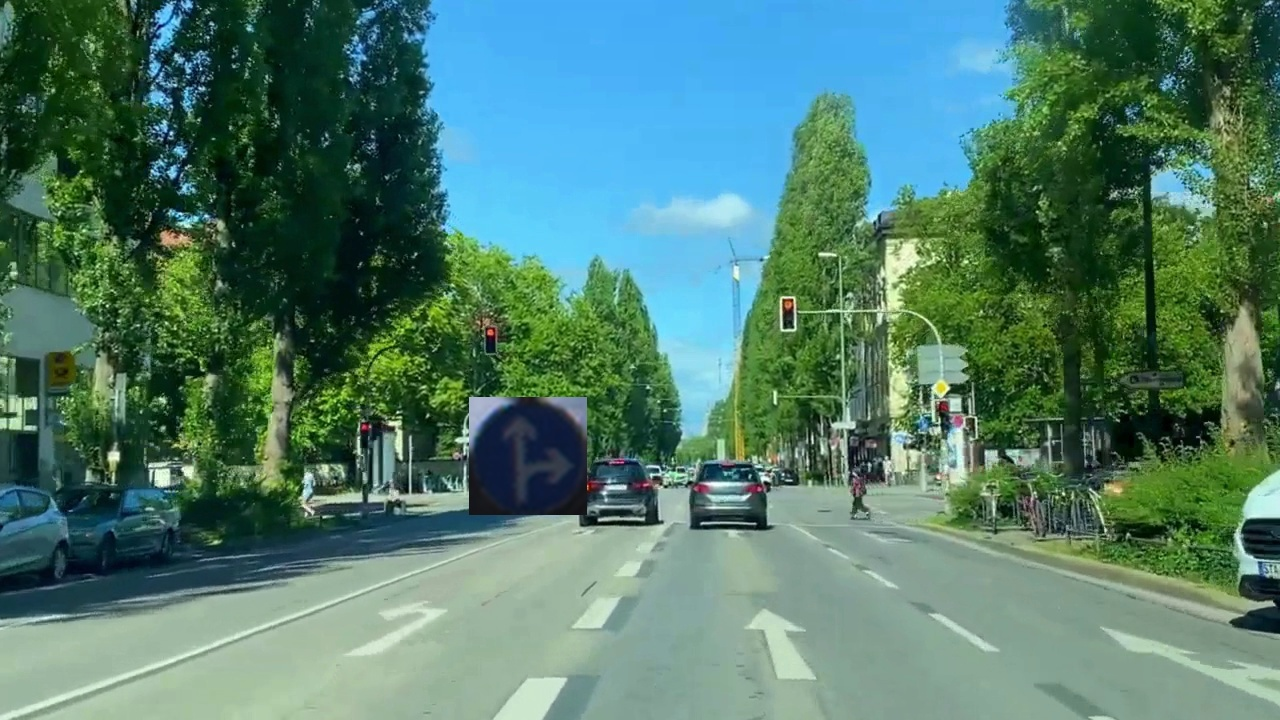Straight/right: (469, 397, 587, 515)
